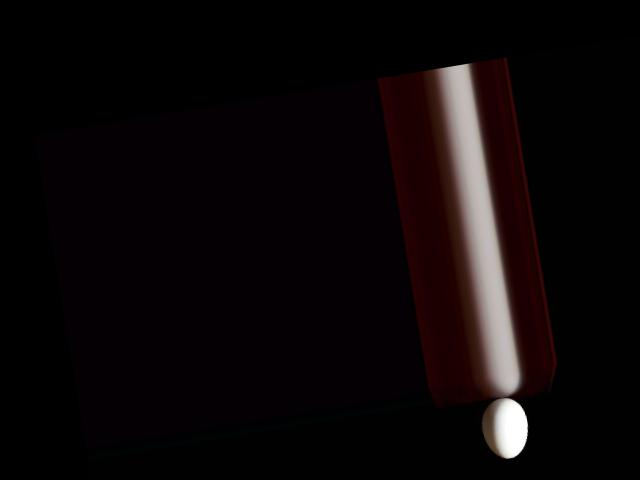egg: (478, 393, 533, 461)
